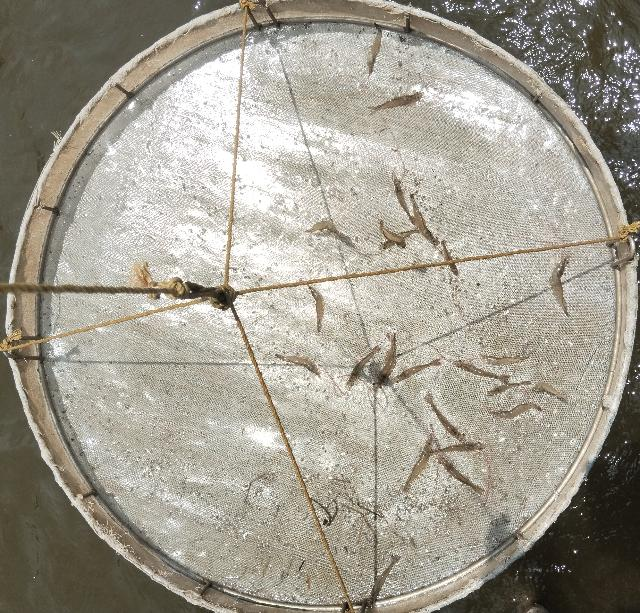shrimp: (424, 393, 467, 445), (437, 456, 485, 498), (403, 437, 435, 495), (364, 555, 400, 605), (345, 345, 382, 390), (410, 193, 439, 246), (372, 333, 396, 392), (453, 361, 511, 385), (367, 92, 424, 116), (550, 255, 571, 320), (391, 359, 442, 384), (276, 354, 321, 380), (392, 177, 416, 224), (489, 403, 543, 420), (377, 230, 420, 251), (379, 220, 408, 250), (366, 22, 382, 75), (308, 285, 325, 334), (529, 383, 568, 401), (485, 382, 532, 396), (441, 240, 459, 276), (304, 221, 341, 236), (480, 355, 530, 366)
